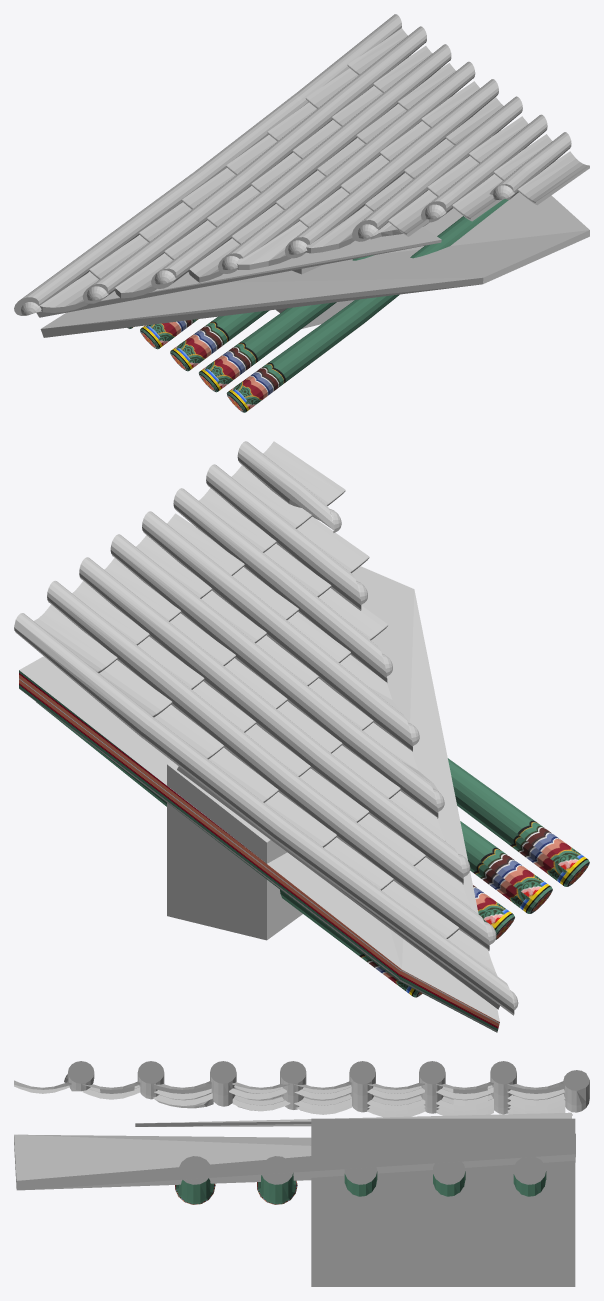
The model's file is SM_R_RoofCornerCut_6.fbx.
3 renders of one model, top to bottom at view 1: azimuth 30°, elevation 25°; view 2: azimuth 150°, elevation 25°; view 3: azimuth 270°, elevation 25°, orthographic. The views are drawn at different scales.
Parts seen in each view (by area): view 1: SM_R_RoofCornerCut_6_LOD0; view 2: SM_R_RoofCornerCut_6_LOD0; view 3: SM_R_RoofCornerCut_6_LOD0.
Boxes of the visible parts, bbox=[...] form: SM_R_RoofCornerCut_6_LOD0: bbox=[14, 14, 589, 412]; SM_R_RoofCornerCut_6_LOD0: bbox=[14, 441, 589, 1032]; SM_R_RoofCornerCut_6_LOD0: bbox=[14, 1061, 589, 1286].
Size of the model in its own units: 519 by 466 by 312.
